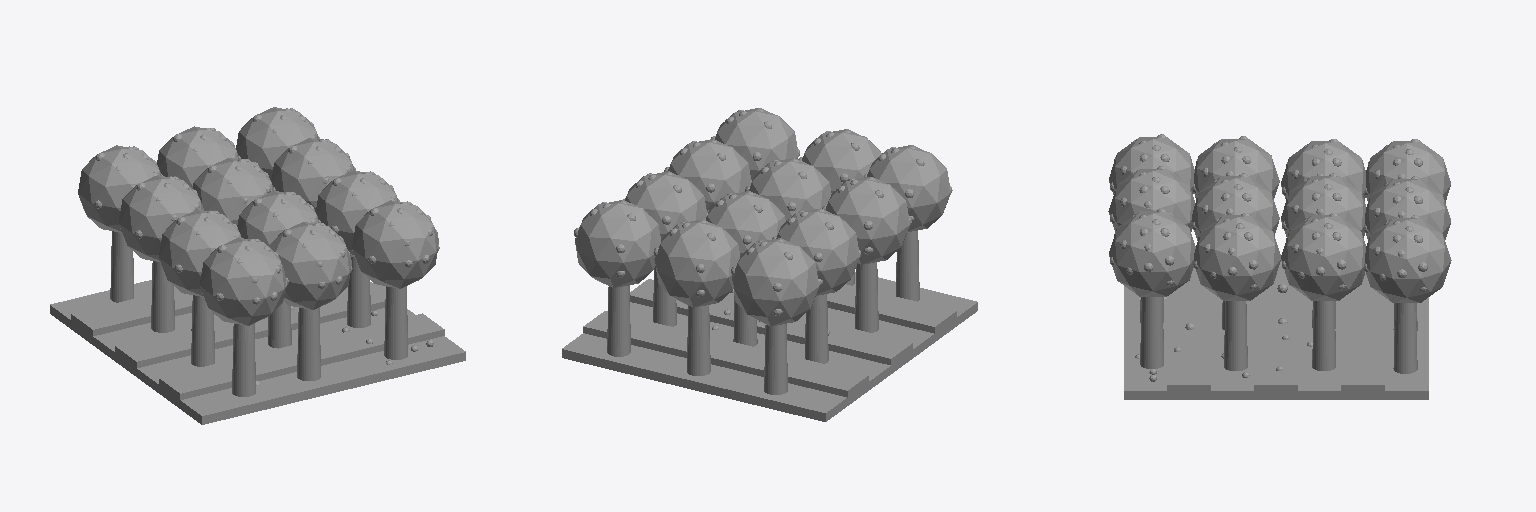
File: apple.obj
3 views of the same model, side by side, from view 1: azimuth 30°, elevation 25°; view 2: azimuth 150°, elevation 25°; view 3: azimuth 270°, elevation 25° (orthographic).
Visible parts, largest first — view 1: elma_Cube.561; view 2: elma_Cube.561; view 3: elma_Cube.561.
Boxes of the visible parts, x1,y1,x2,y2 form: elma_Cube.561: [50, 107, 465, 424]; elma_Cube.561: [562, 108, 977, 421]; elma_Cube.561: [1108, 134, 1451, 399].
Bounding box in the file's own units: 7.25 × 4.18 × 8.15.